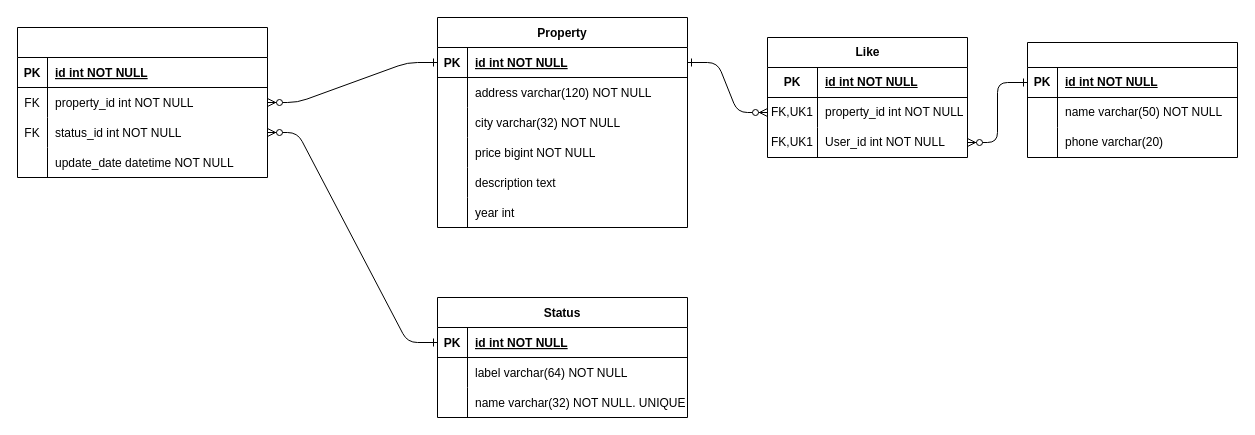
The diagram is 1255 pixels wide and 435 high, and some of its shapes have lost their labels. Here are the shapes that lost their labels. From the top down, the box of each, then its label:
(16, 26, 268, 178): Status_history
(1026, 42, 1238, 158): User
